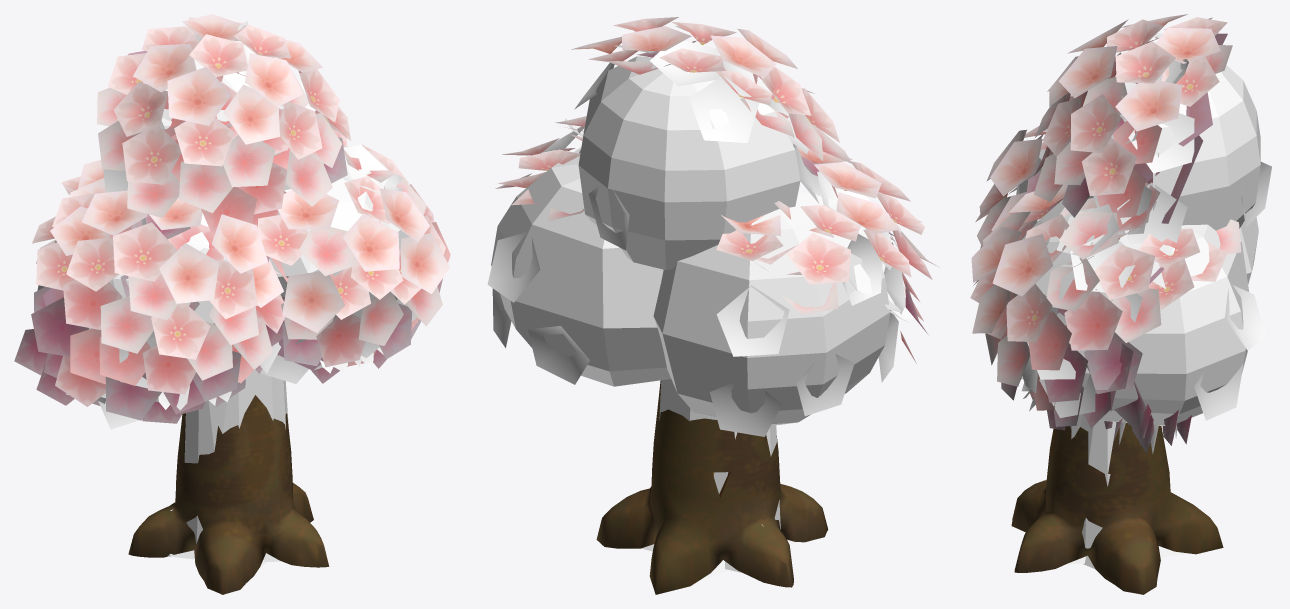
File: tree-blossom.glb
3 renders of one model, left to right at view 1: azimuth 30°, elevation 25°; view 2: azimuth 150°, elevation 25°; view 3: azimuth 270°, elevation 25°, orthographic. The views are drawn at different scales.
Parts seen in each view (by area): view 1: L_L1_1__mTreeOakSakuraBloom, TrunkBottom__mTreeOakTrunkSakura, LB014__mShadow, PetalL010__mShadowShake; view 2: LB014__mShadow, L_L1_1__mTreeOakSakuraBloom, TrunkBottom__mTreeOakTrunkSakura, PetalL010__mShadowShake; view 3: L_L1_1__mTreeOakSakuraBloom, LB014__mShadow, TrunkBottom__mTreeOakTrunkSakura, PetalL010__mShadowShake, LB015__mTreeOakSakuraBack.
Part boxes in pixels (<box>): L_L1_1__mTreeOakSakuraBloom: <box>14,14,450,423</box>; TrunkBottom__mTreeOakTrunkSakura: <box>128,395,329,594</box>; LB014__mShadow: <box>37,59,409,567</box>; PetalL010__mShadowShake: <box>66,21,417,429</box>; LB014__mShadow: <box>491,56,898,581</box>; L_L1_1__mTreeOakSakuraBloom: <box>495,17,939,363</box>; TrunkBottom__mTreeOakTrunkSakura: <box>596,380,828,594</box>; PetalL010__mShadowShake: <box>487,40,914,436</box>; L_L1_1__mTreeOakSakuraBloom: <box>970,14,1241,453</box>; LB014__mShadow: <box>1016,65,1260,568</box>; TrunkBottom__mTreeOakTrunkSakura: <box>1011,423,1223,594</box>; PetalL010__mShadowShake: <box>1021,33,1271,453</box>; LB015__mTreeOakSakuraBack: <box>1057,33,1227,411</box>.
Bounding box in the file's own units: 2.86 × 3.36 × 1.79.
5 materials, 3 textured.
